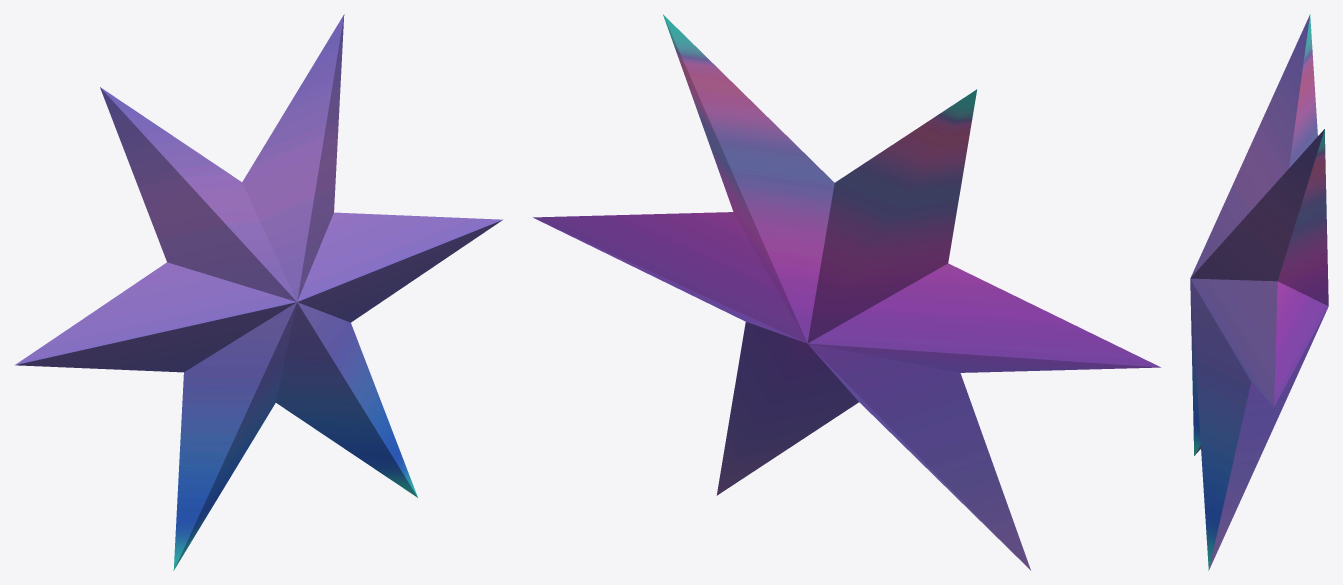
File: star.glb
3 views of the same model, side by side, from view 1: azimuth 30°, elevation 25°; view 2: azimuth 150°, elevation 25°; view 3: azimuth 270°, elevation 25° (orthographic). The views are drawn at different scales.
Visible parts, largest first — view 1: Star 2; view 2: Star 2; view 3: Star 2.
Part boxes in pixels (x1,y1,x2,y2): Star 2: (15, 14, 502, 570); Star 2: (533, 14, 1160, 570); Star 2: (1190, 14, 1328, 570).
Size of the model in its own units: 0.2979 by 0.2543 by 0.0724.
1 material, 1 textured.
